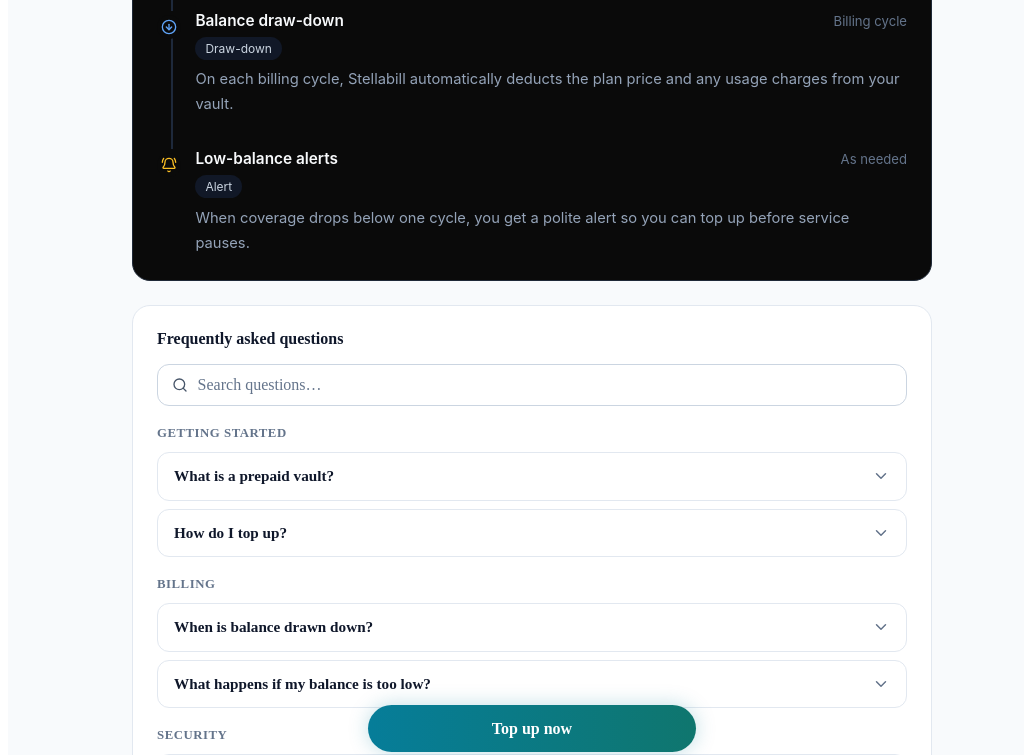
Test: AboutPrepaidBalances › shows empty search state for unmatched queries
(page scrolled)
Type "zzzz-no-match" into the search field with placeholder "Search questions…" at (544, 385), box [196,375,892,395]
(page scrolled)
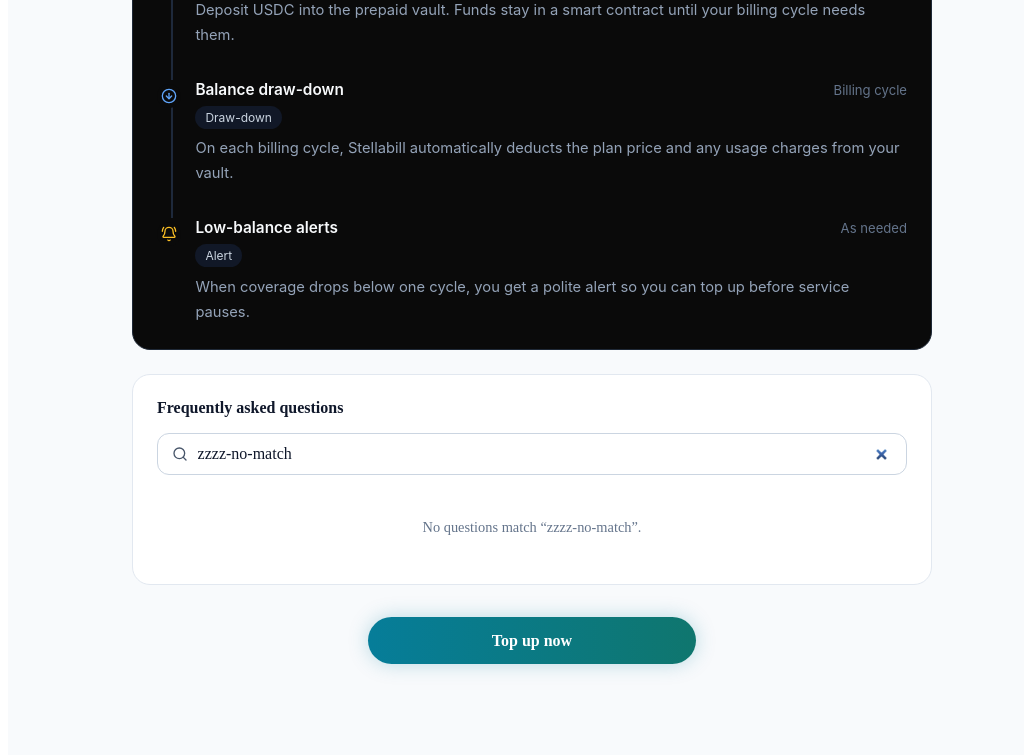
Result: the message shows "No questions match" at [422,519,547,535]
